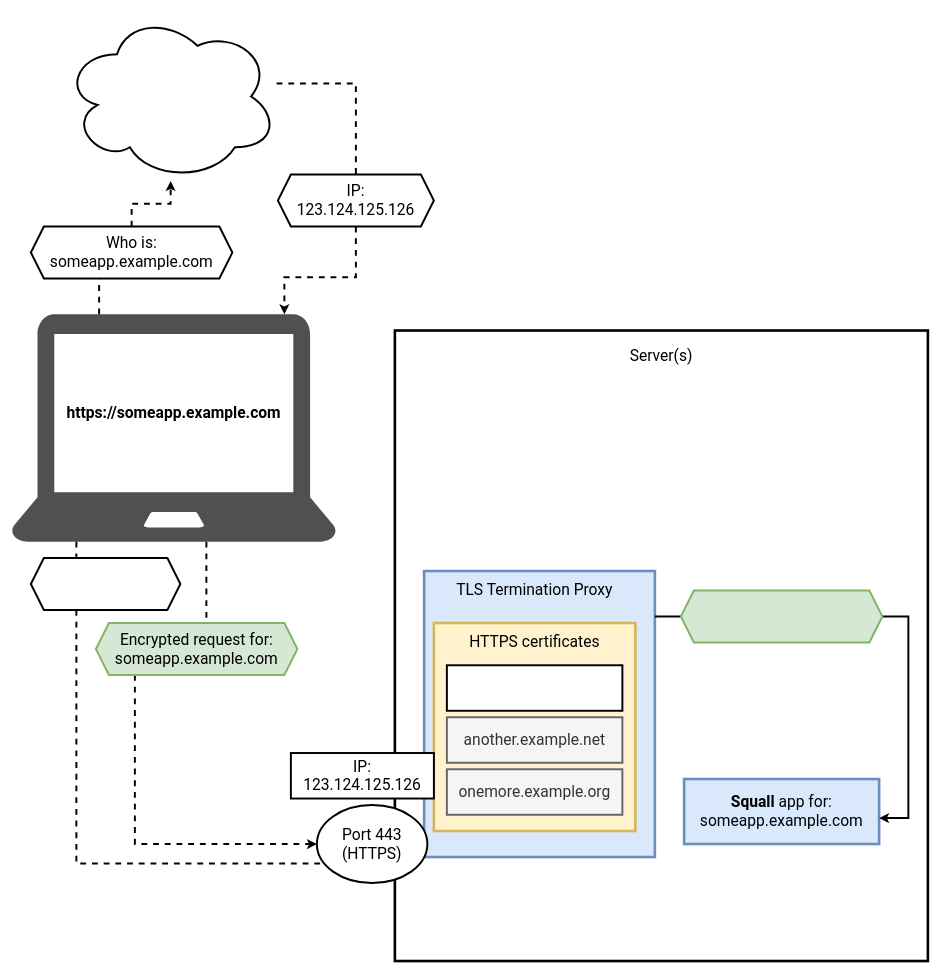
This 940x974 diagram has some shape labels left out. Each missing label, with the box of its shape:
Decrypted request for: someapp.example.com: (680, 589, 883, 643)
DNS Servers: (62, 11, 279, 182)
someapp.example.com: (446, 664, 623, 711)
TLS Handshake: (30, 557, 181, 611)
